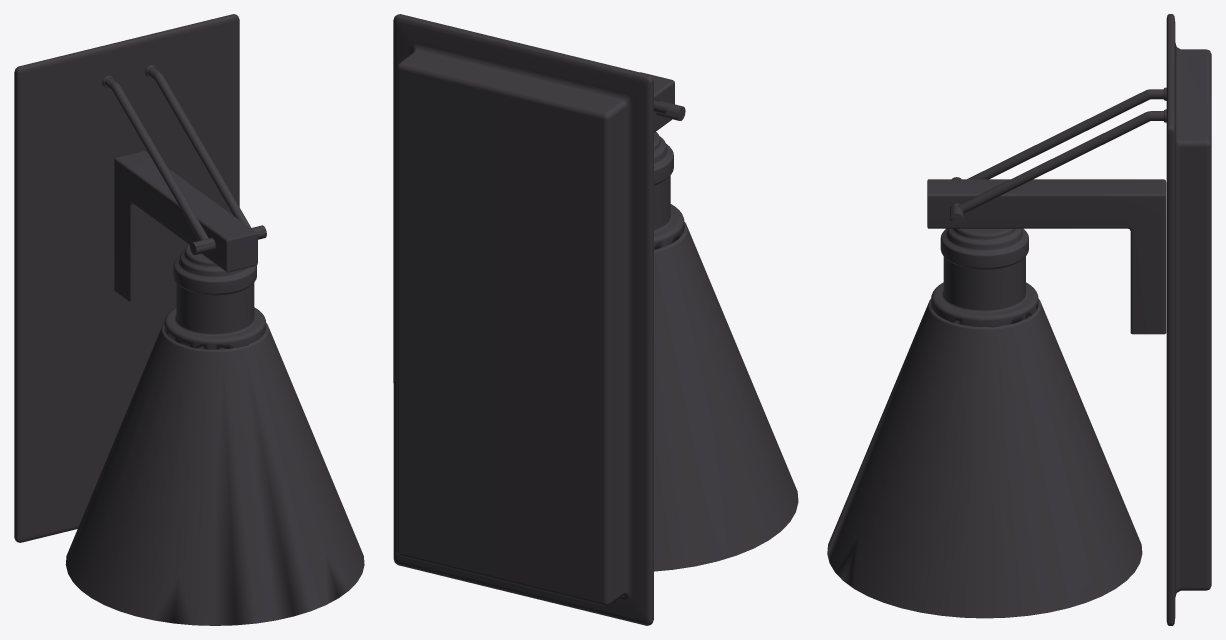
File: B07HK5CDRQ.glb
The picture shows the model from 3 angles, left to right: view 1: azimuth 30°, elevation 25°; view 2: azimuth 150°, elevation 25°; view 3: azimuth 270°, elevation 25°; orthographic projection. The views are drawn at different scales.
Parts seen in each view (by area): view 1: RootNode; view 2: RootNode; view 3: RootNode.
Boxes of the visible parts, x1,y1,x2,y2 form: RootNode: (14,14,364,625); RootNode: (393,14,798,625); RootNode: (827,14,1211,625).
Size of the model in its own units: 0.17 by 0.2983 by 0.2074.
Materials: 1 (1 with a texture image).
